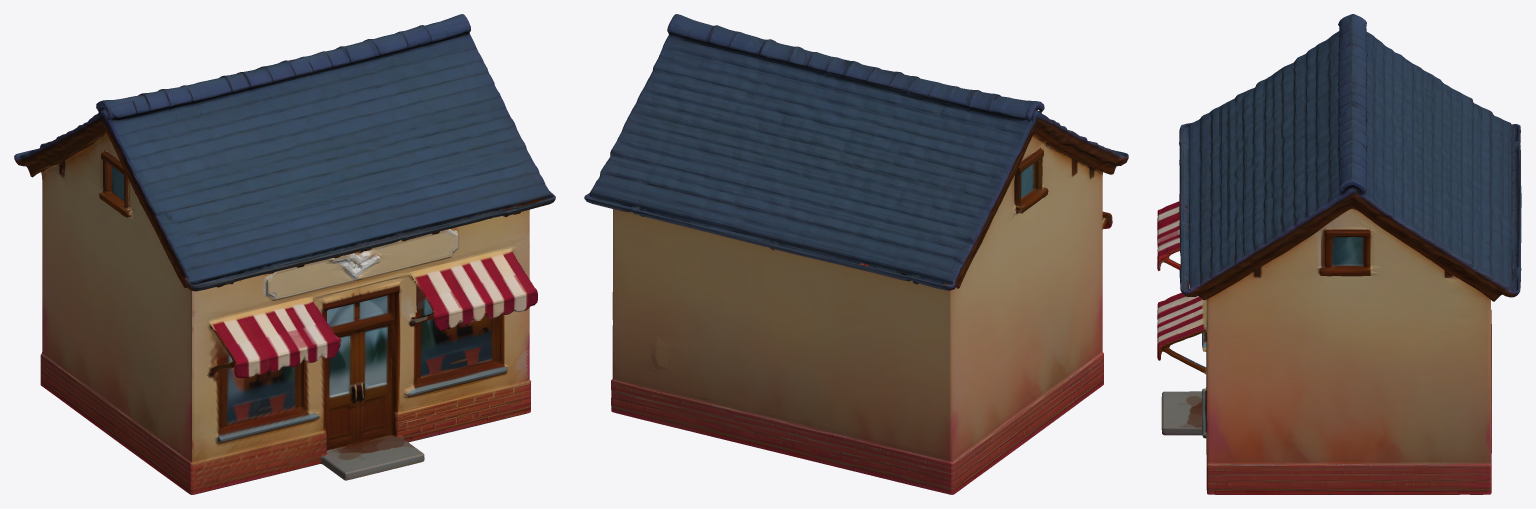
The model's file is cafe-building.glb.
The picture shows the model from 3 angles, left to right: view 1: azimuth 30°, elevation 25°; view 2: azimuth 150°, elevation 25°; view 3: azimuth 270°, elevation 25°; orthographic projection. The views are drawn at different scales.
Visible parts, largest first — view 1: textured; view 2: textured; view 3: textured.
Boxes of the visible parts, <box> form: textured: <box>14,14,555,494</box>; textured: <box>584,14,1128,494</box>; textured: <box>1157,14,1521,494</box>.
Size of the model in its own units: 1.98 by 1.76 by 1.81.
Materials: 1 (1 with a texture image).
